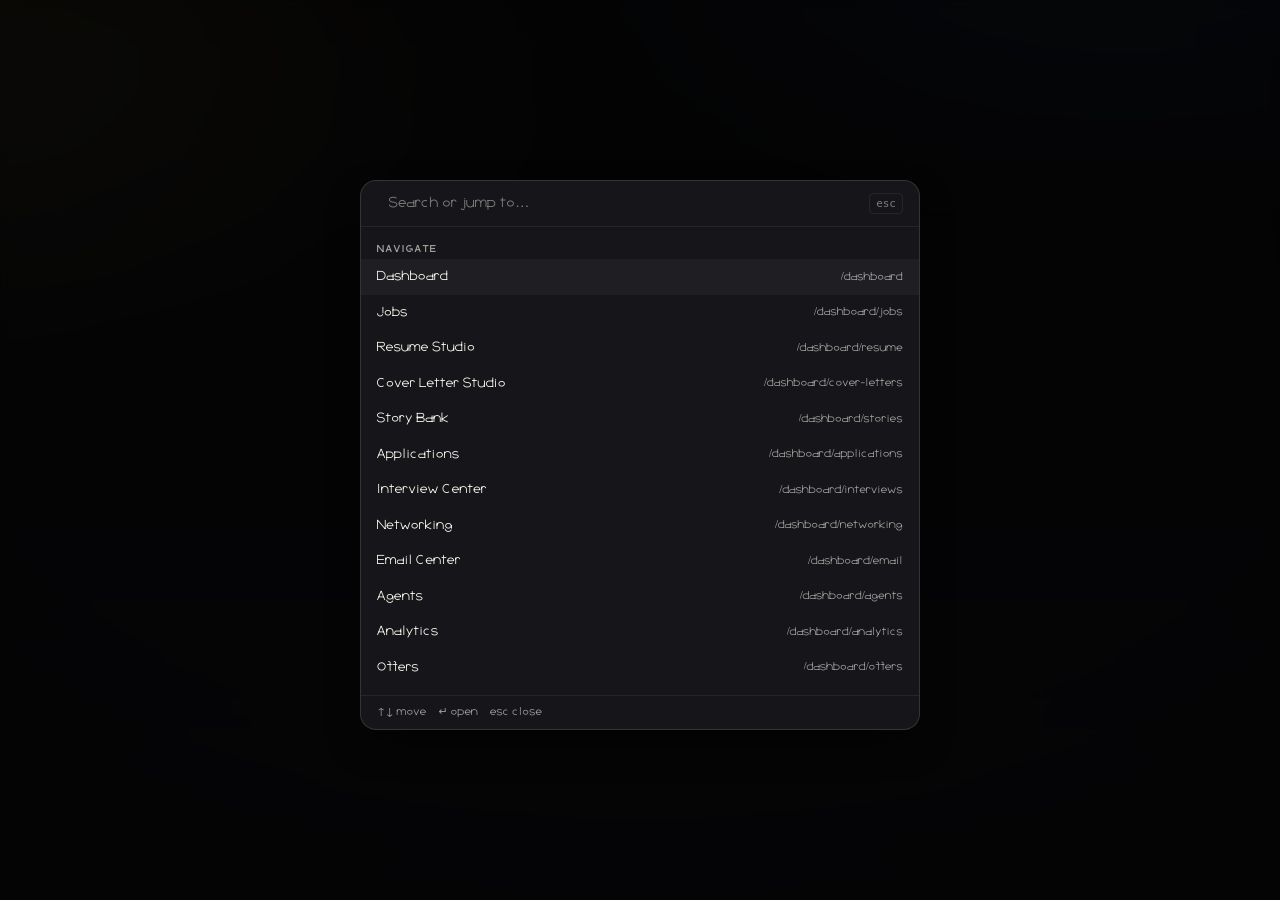
Command palette — sections and keyboard (§1.6) › draws a designed empty state naming the query, never a blank box
Step 1. Type "zzzz-nothing-matches-this" into the dropdown → x=623, y=204, box [389, 193, 857, 214]
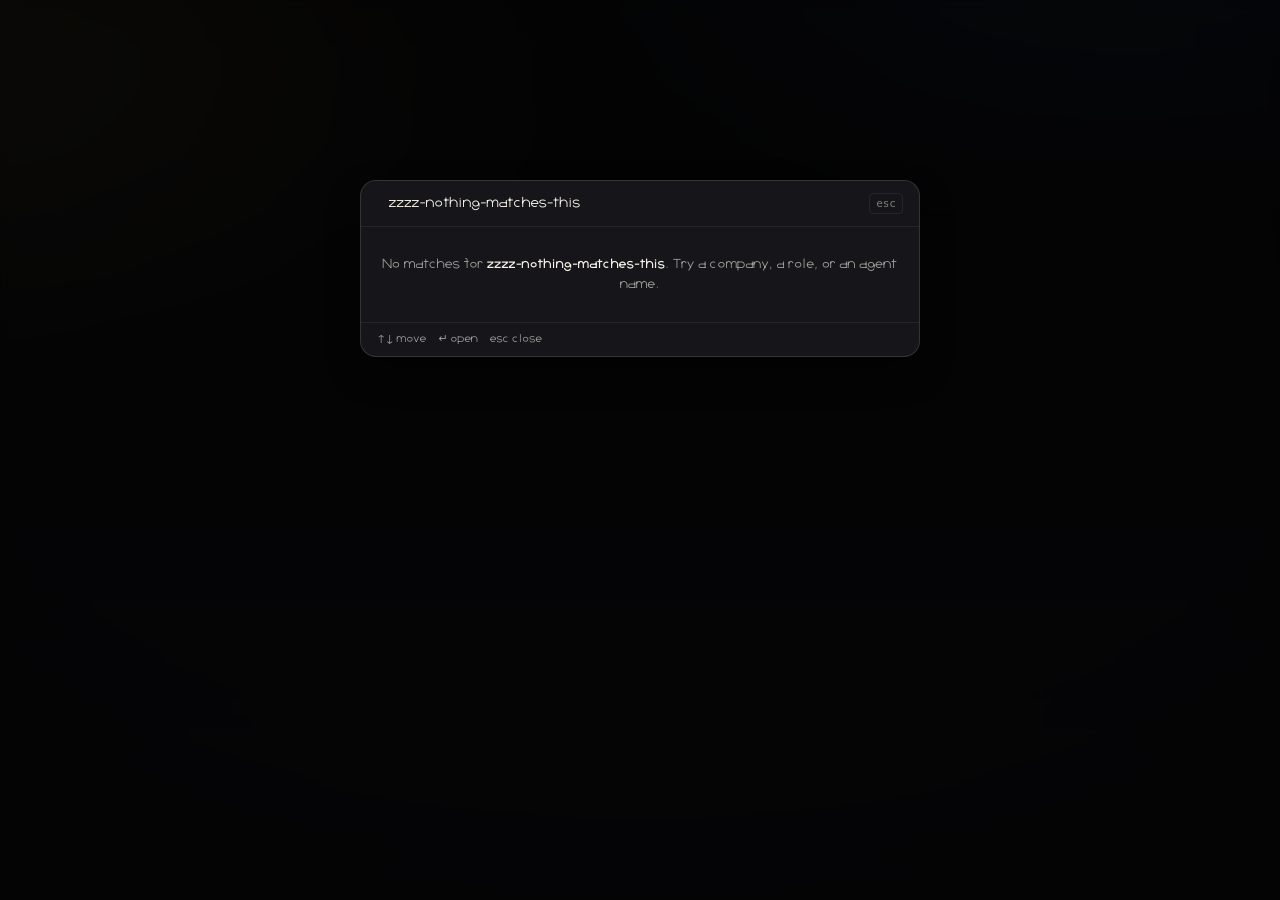
Result: the list item with test id "command-palette-empty" shows "zzzz-nothing-matches-this" at [487, 258, 665, 271]
Result: the list item with test id "command-palette-empty" shows "try a company, a role, or an agent name" at [620, 258, 897, 291]
